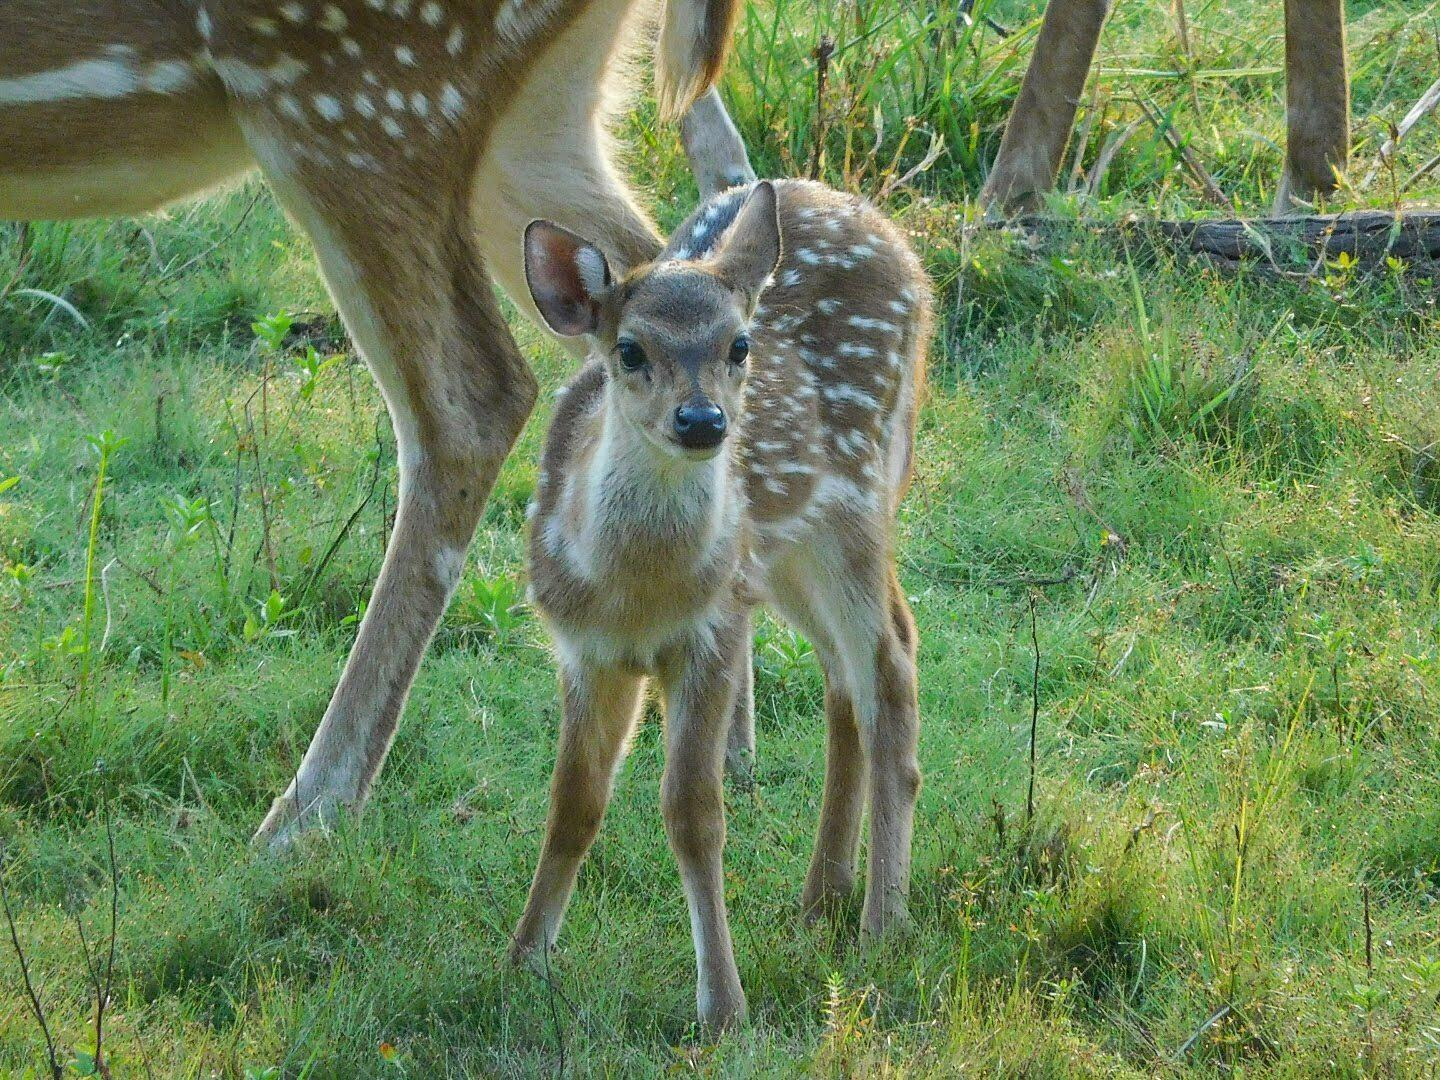Deer: (510, 179, 931, 1028)
